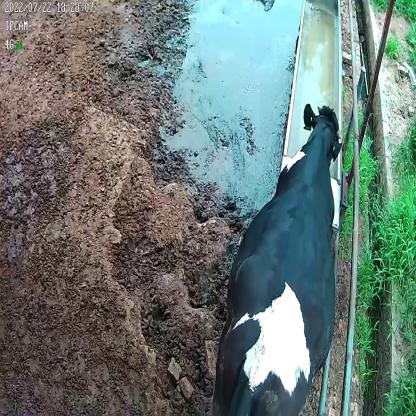cow: (213, 101, 344, 416)
